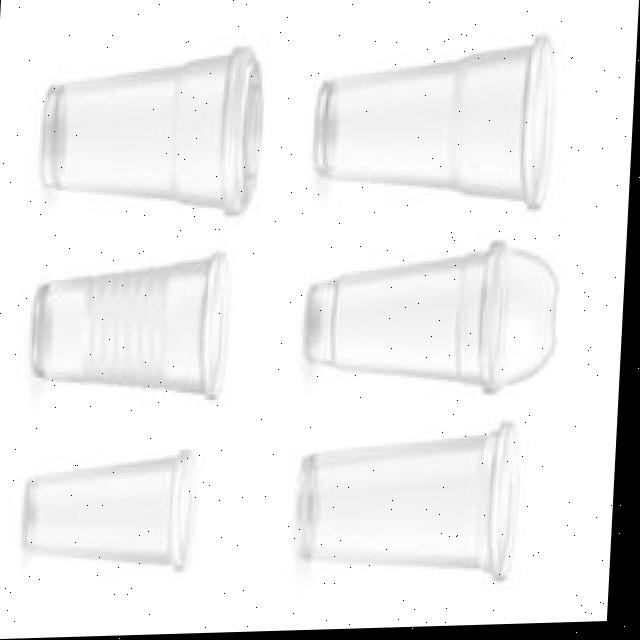cup: (317, 39, 551, 212), (305, 425, 525, 584), (44, 51, 236, 213), (310, 247, 512, 396), (37, 259, 231, 401), (31, 456, 200, 571)
